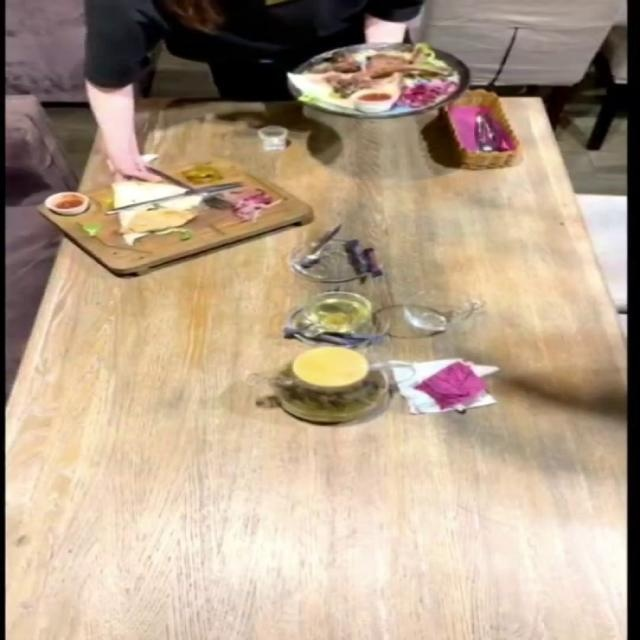meat: (35, 155, 327, 278), (281, 37, 510, 134)
tea: (241, 339, 420, 433)
